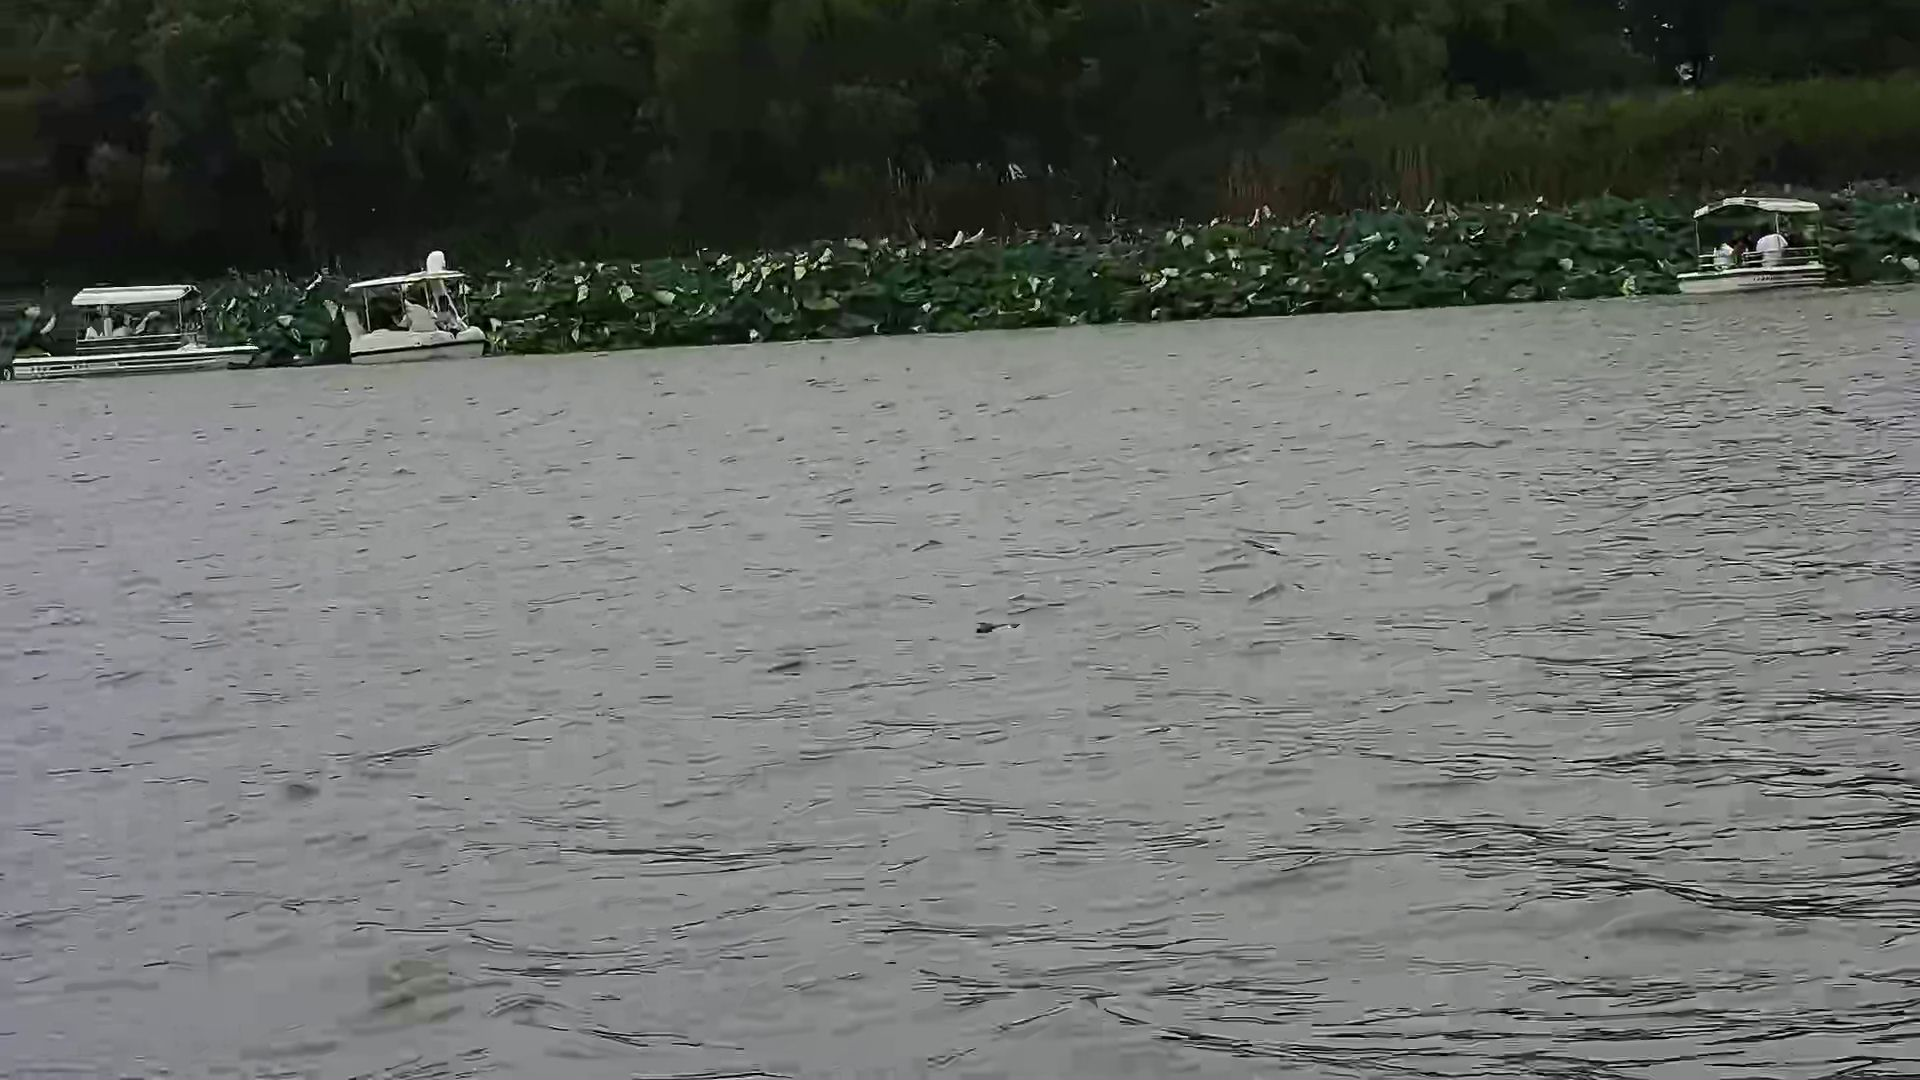boat: (7, 284, 258, 365), (1669, 181, 1832, 299), (347, 245, 491, 365)
